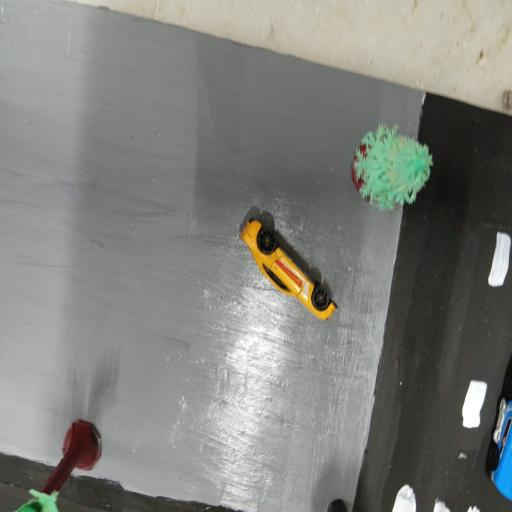car crash: (234, 215, 341, 326)
